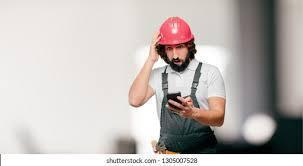helmet: (153, 16, 195, 46)
